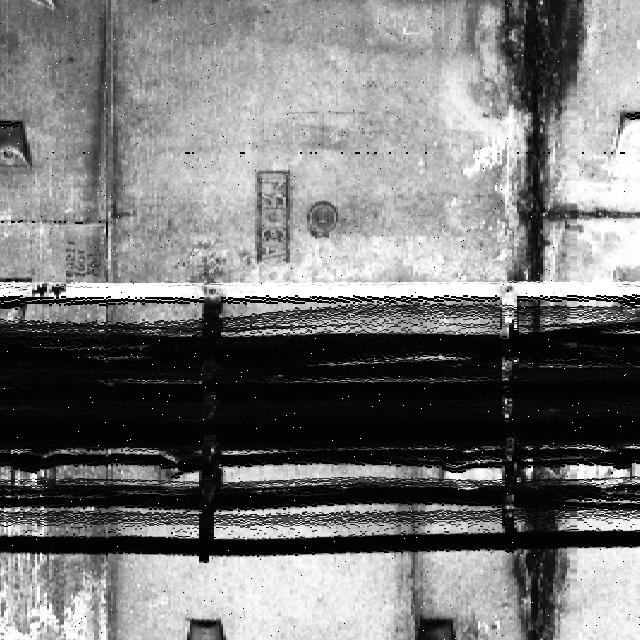leakage: (461, 0, 596, 275), (495, 469, 576, 639)
